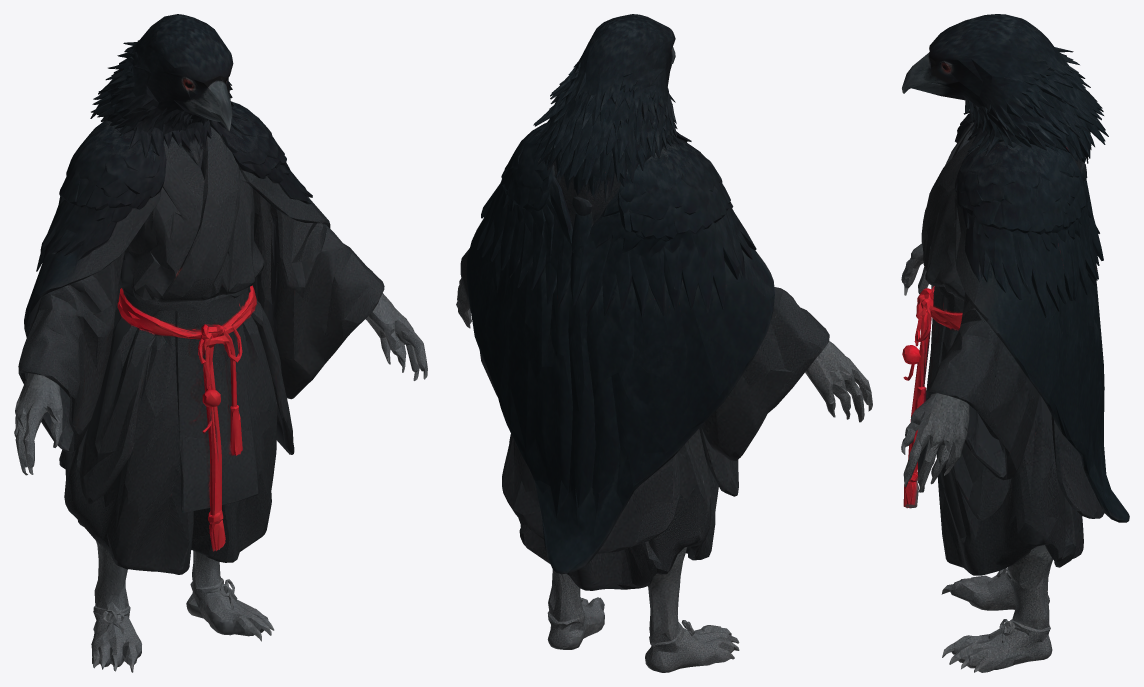
File: unit_tengu_refine.glb
3 renders of one model, left to right at view 1: azimuth 30°, elevation 25°; view 2: azimuth 150°, elevation 25°; view 3: azimuth 270°, elevation 25°, orthographic.
Bounding box in the file's own units: 1.29 × 1.9 × 0.6351.
Materials: 1 (1 with a texture image).
